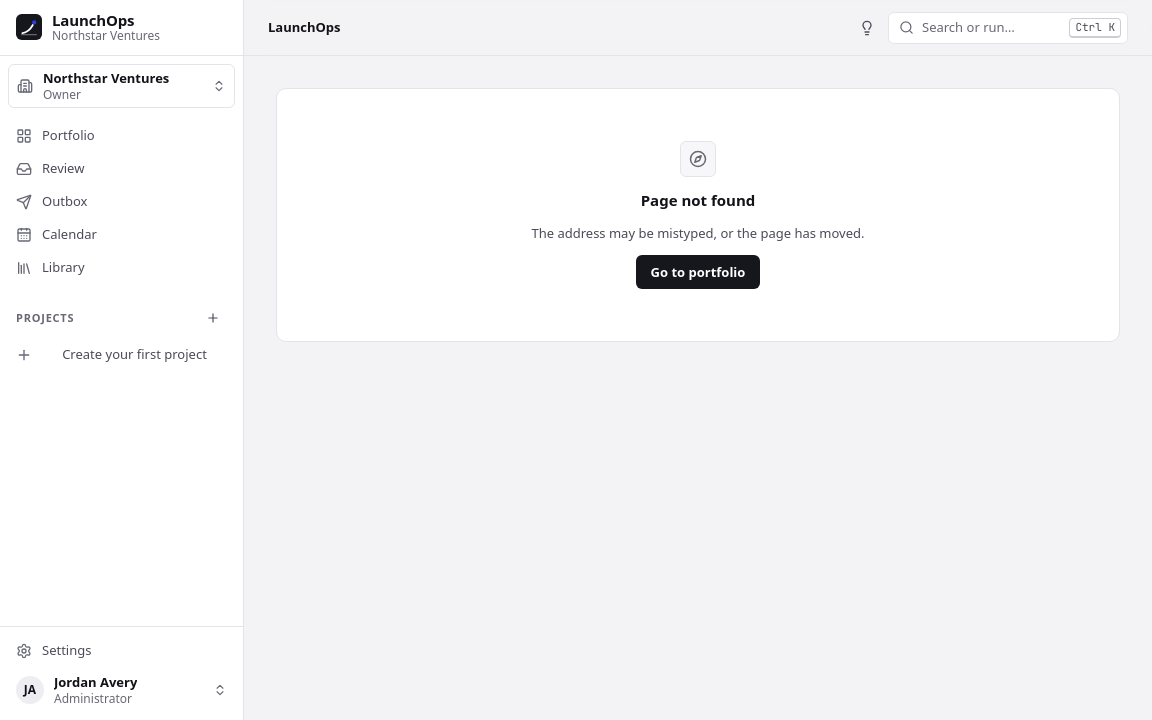
Test case: Pages that can't be shown › says the page wasn't found for an unknown address, with a way back
Expected: the text "Page not found" is shown, [641,189,755,212]
Click the link "Go to portfolio" at (698, 272), box [636,255,760,289]
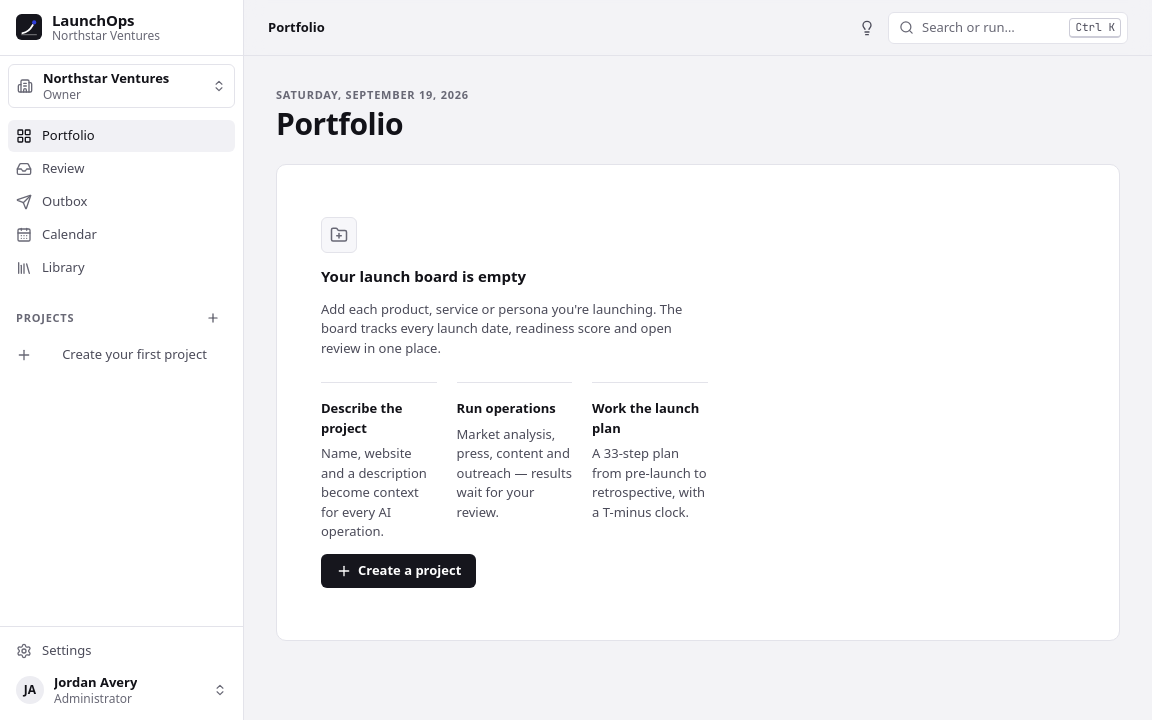
Expected: the heading "Portfolio" is shown, [276,103,403,144]
